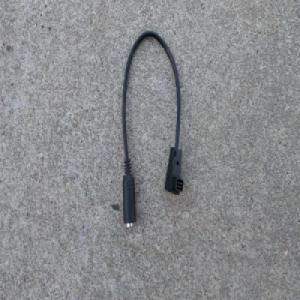Wire: (119, 28, 185, 232)
